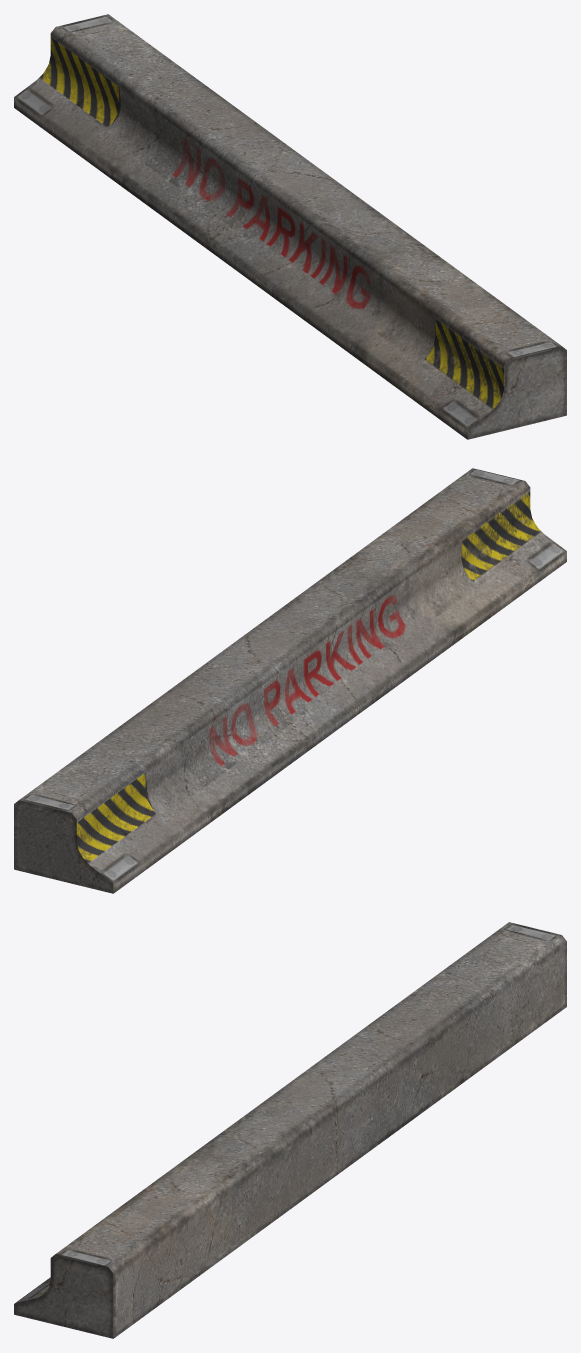
The model's file is CP_Curbstone_No_Parking.fbx.
The picture shows the model from 3 angles, top to bottom: view 1: azimuth 30°, elevation 25°; view 2: azimuth 150°, elevation 25°; view 3: azimuth 330°, elevation 25°; orthographic projection.
Visible parts, largest first — view 1: CP_Curbstone_No_Parking; view 2: CP_Curbstone_No_Parking; view 3: CP_Curbstone_No_Parking.
Boxes of the visible parts, box(x1,y1,x2,y2) form: CP_Curbstone_No_Parking: box(14, 14, 566, 439); CP_Curbstone_No_Parking: box(14, 468, 566, 893); CP_Curbstone_No_Parking: box(14, 922, 566, 1338).
Bounding box in the file's own units: 25.32 × 17.21 × 200.
